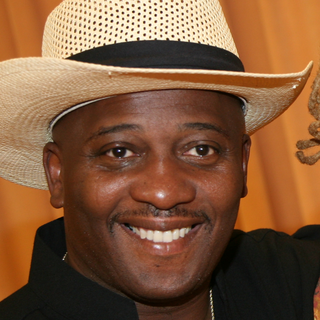eye: (97, 140, 143, 165), (179, 139, 225, 164)
